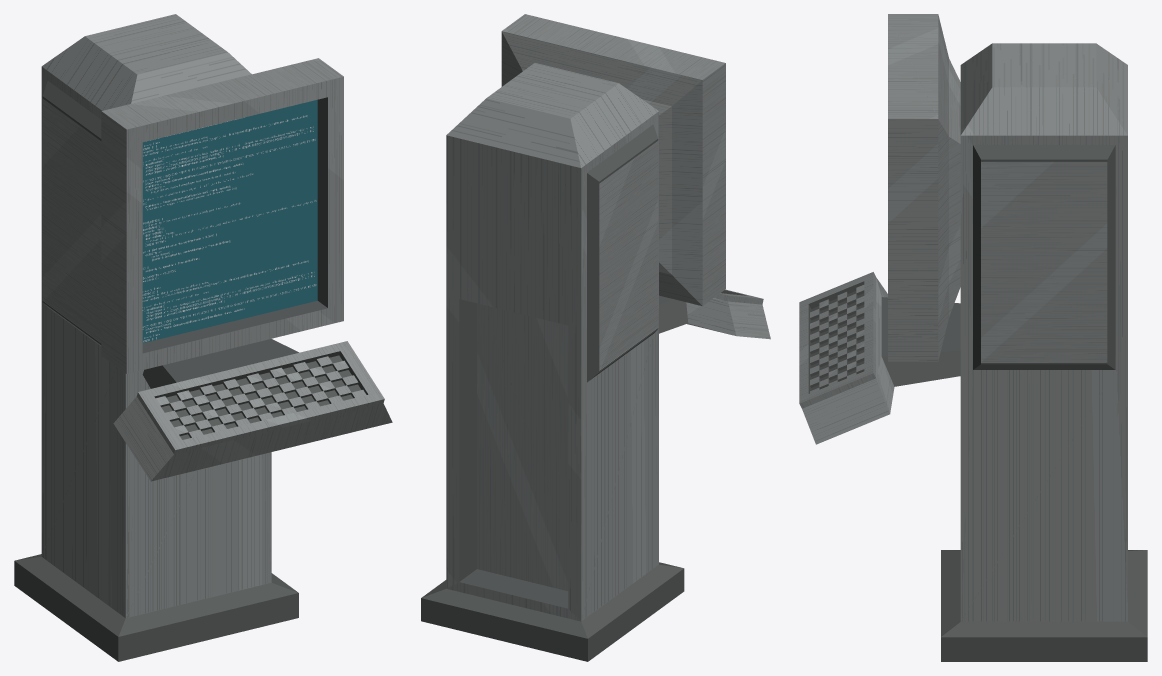
Rendered from cONSOLE.fbx.
3 renders of one model, left to right at view 1: azimuth 30°, elevation 25°; view 2: azimuth 150°, elevation 25°; view 3: azimuth 270°, elevation 25°, orthographic. The views are drawn at different scales.
Visible parts, largest first — view 1: Cube; view 2: Cube; view 3: Cube.
Part boxes in pixels (<box>): Cube: <box>14,14,392,661</box>; Cube: <box>421,14,770,661</box>; Cube: <box>799,14,1147,661</box>.
Size of the model in its own units: 261 by 575 by 329.
